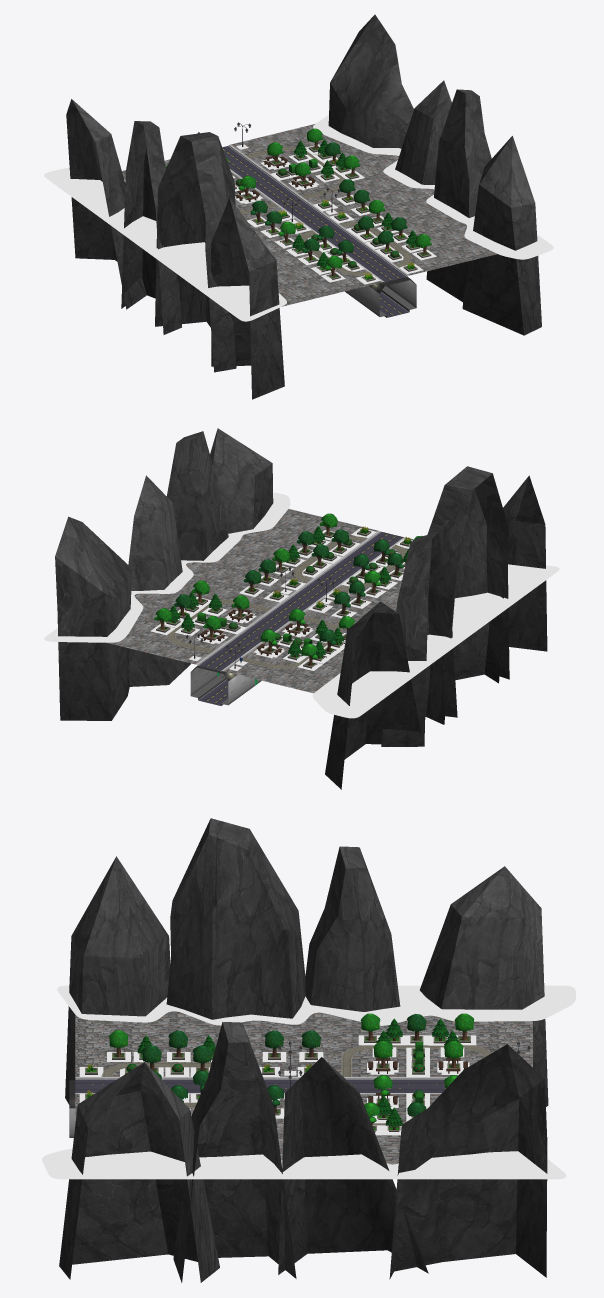
Rendered from City_16.fbx.
3 views of the same model, one above another, from view 1: azimuth 30°, elevation 25°; view 2: azimuth 150°, elevation 25°; view 3: azimuth 270°, elevation 25° (orthographic). The views are drawn at different scales.
Visible parts, largest first — view 1: City_16; view 2: City_16; view 3: City_16.
Boxes of the visible parts, x1,y1,x2,y2 form: City_16: (44,14,553,399); City_16: (44,428,559,789); City_16: (42,818,575,1282).
Size of the model in its own units: 22617 by 13384 by 25170.
Materials: 10 (10 with a texture image).
